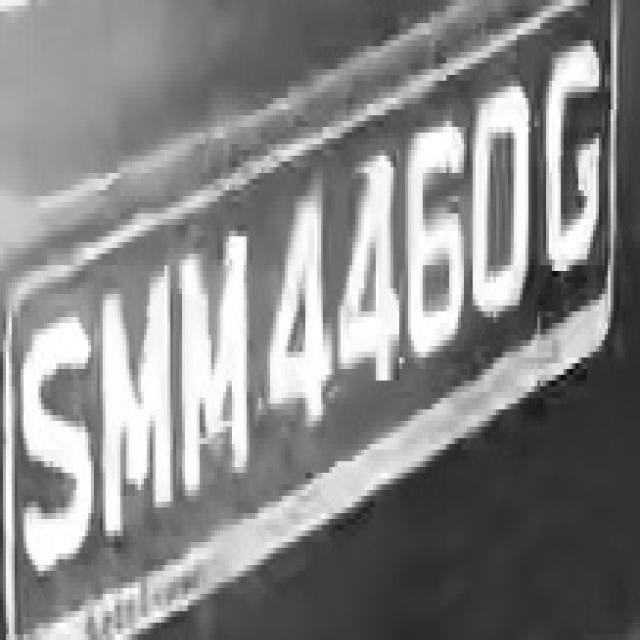0: (470, 70, 537, 334)
4: (252, 167, 338, 450), (332, 127, 402, 427)
6: (402, 115, 470, 375)
G: (540, 23, 608, 288)
M: (170, 202, 262, 524), (91, 253, 182, 548)
S: (14, 282, 102, 582)
